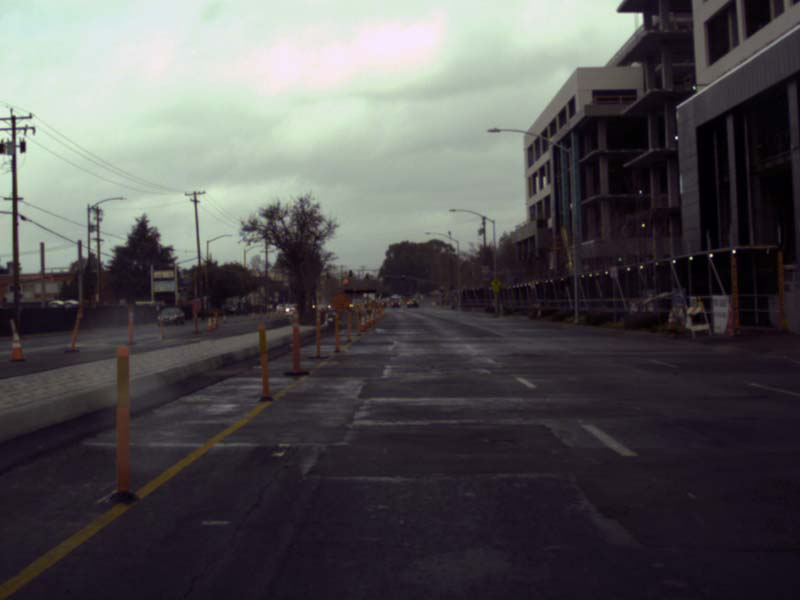Green: (365, 274, 367, 280)
Red: (440, 286, 443, 292), (386, 274, 388, 280), (402, 274, 404, 280)
